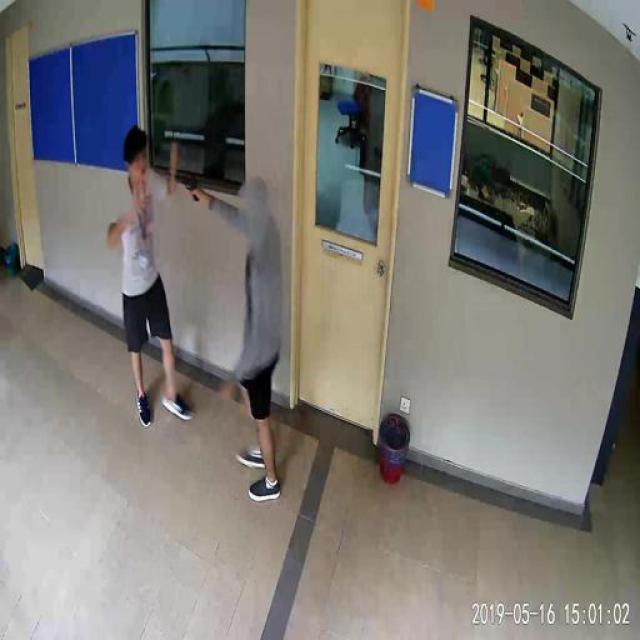weapon: (170, 172, 202, 203)
